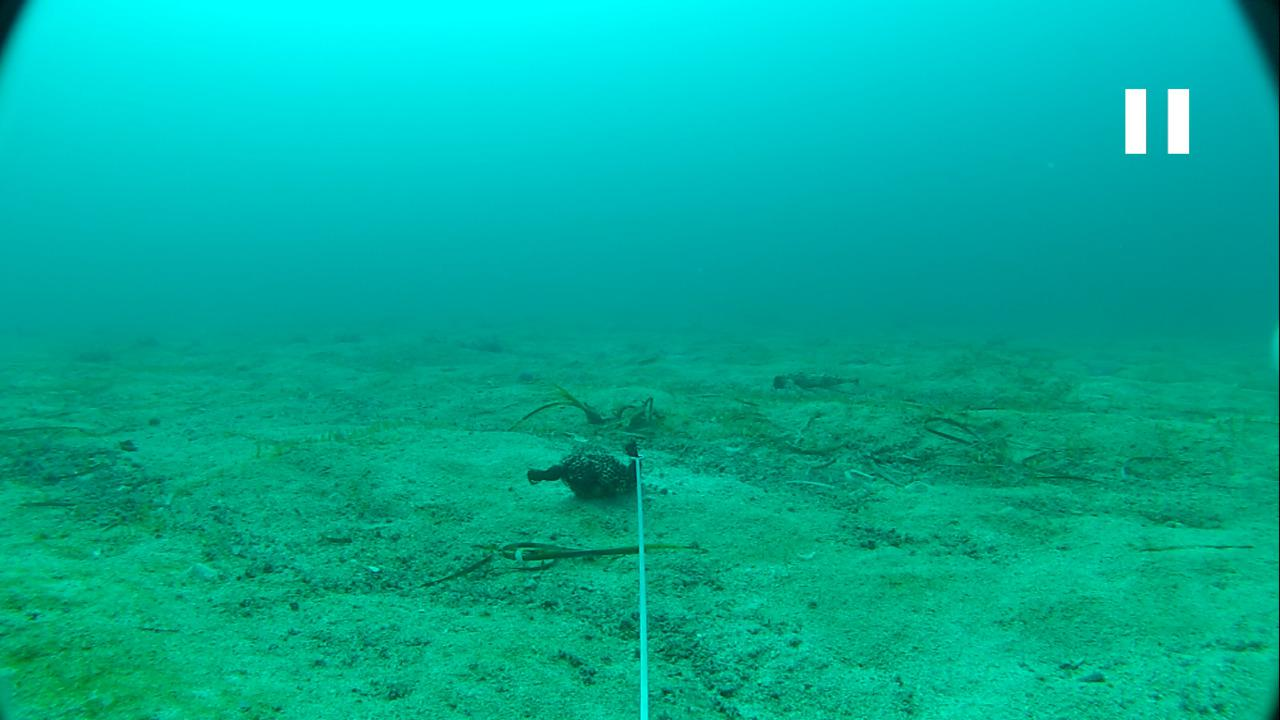dactylopterus: (764, 370, 864, 400)
